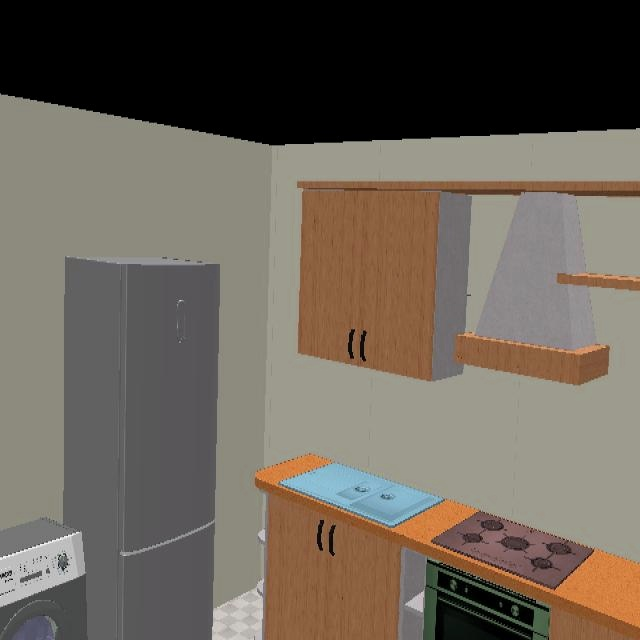cabinet: (262, 495, 640, 640), (297, 184, 443, 383)
countertop: (255, 455, 640, 640)
fridge: (63, 257, 223, 640)
sink: (277, 460, 450, 532)
stove: (432, 512, 589, 588)
